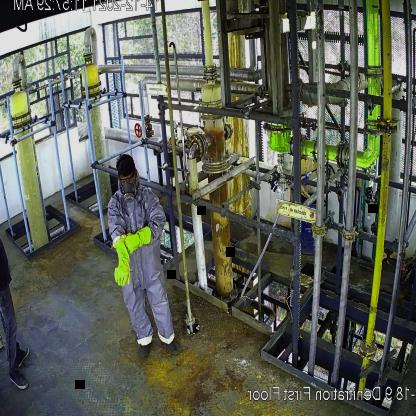goggles: (119, 174, 137, 184)
mask: (121, 181, 137, 204)
